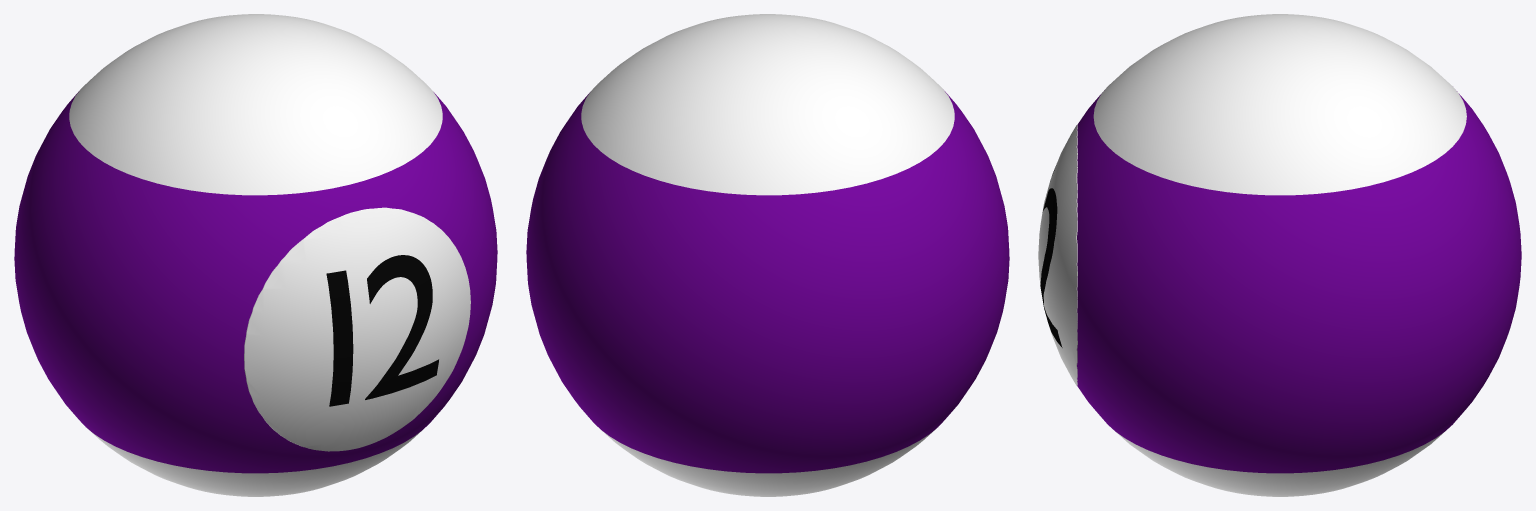
The model's file is Ball12.fbx.
3 views of the same model, side by side, from view 1: azimuth 30°, elevation 25°; view 2: azimuth 150°, elevation 25°; view 3: azimuth 270°, elevation 25° (orthographic).
Parts seen in each view (by area): view 1: Ball12; view 2: Ball12; view 3: Ball12.
Part boxes in pixels (<box>): Ball12: <box>14,14,497,496</box>; Ball12: <box>526,14,1009,496</box>; Ball12: <box>1038,14,1521,496</box>.
Size of the model in its own units: 5.7 by 5.7 by 5.7.
